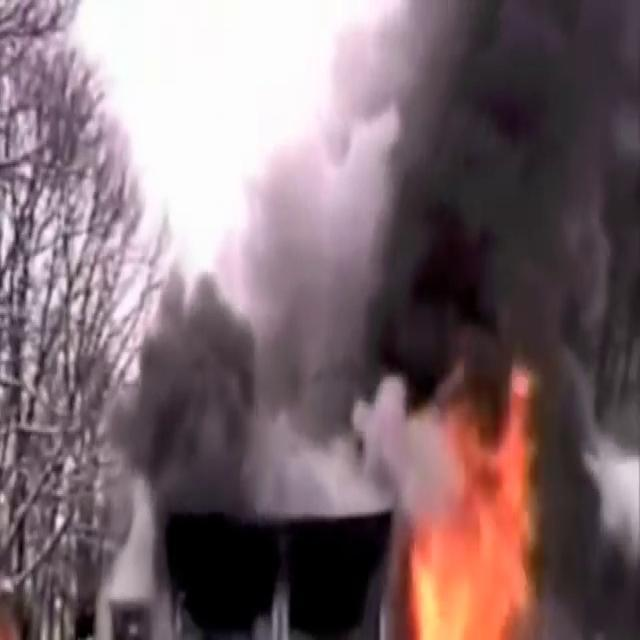Fire: (402, 375, 546, 640)
Smoke: (82, 0, 640, 491)
